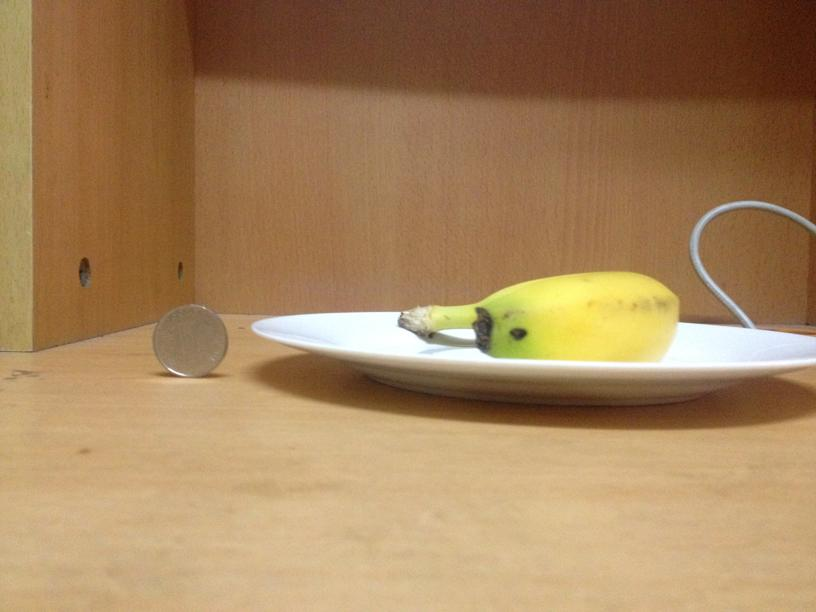banana: (404, 270, 681, 362)
coin: (151, 302, 228, 378)
